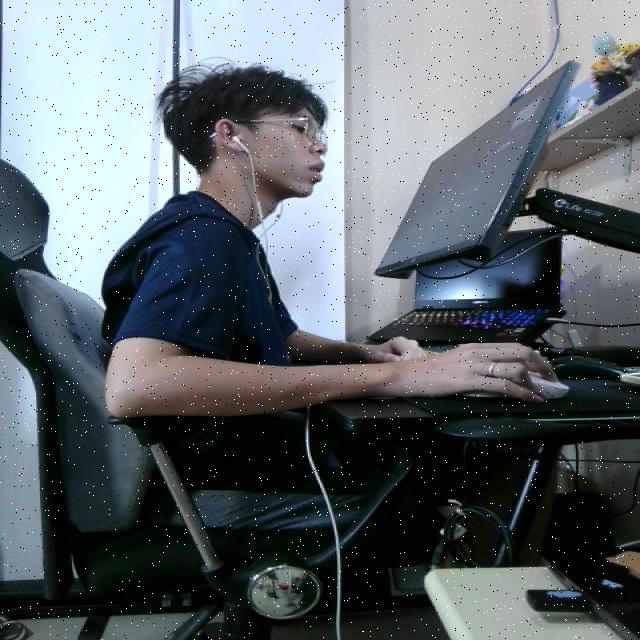Bad: (71, 60, 472, 506)
